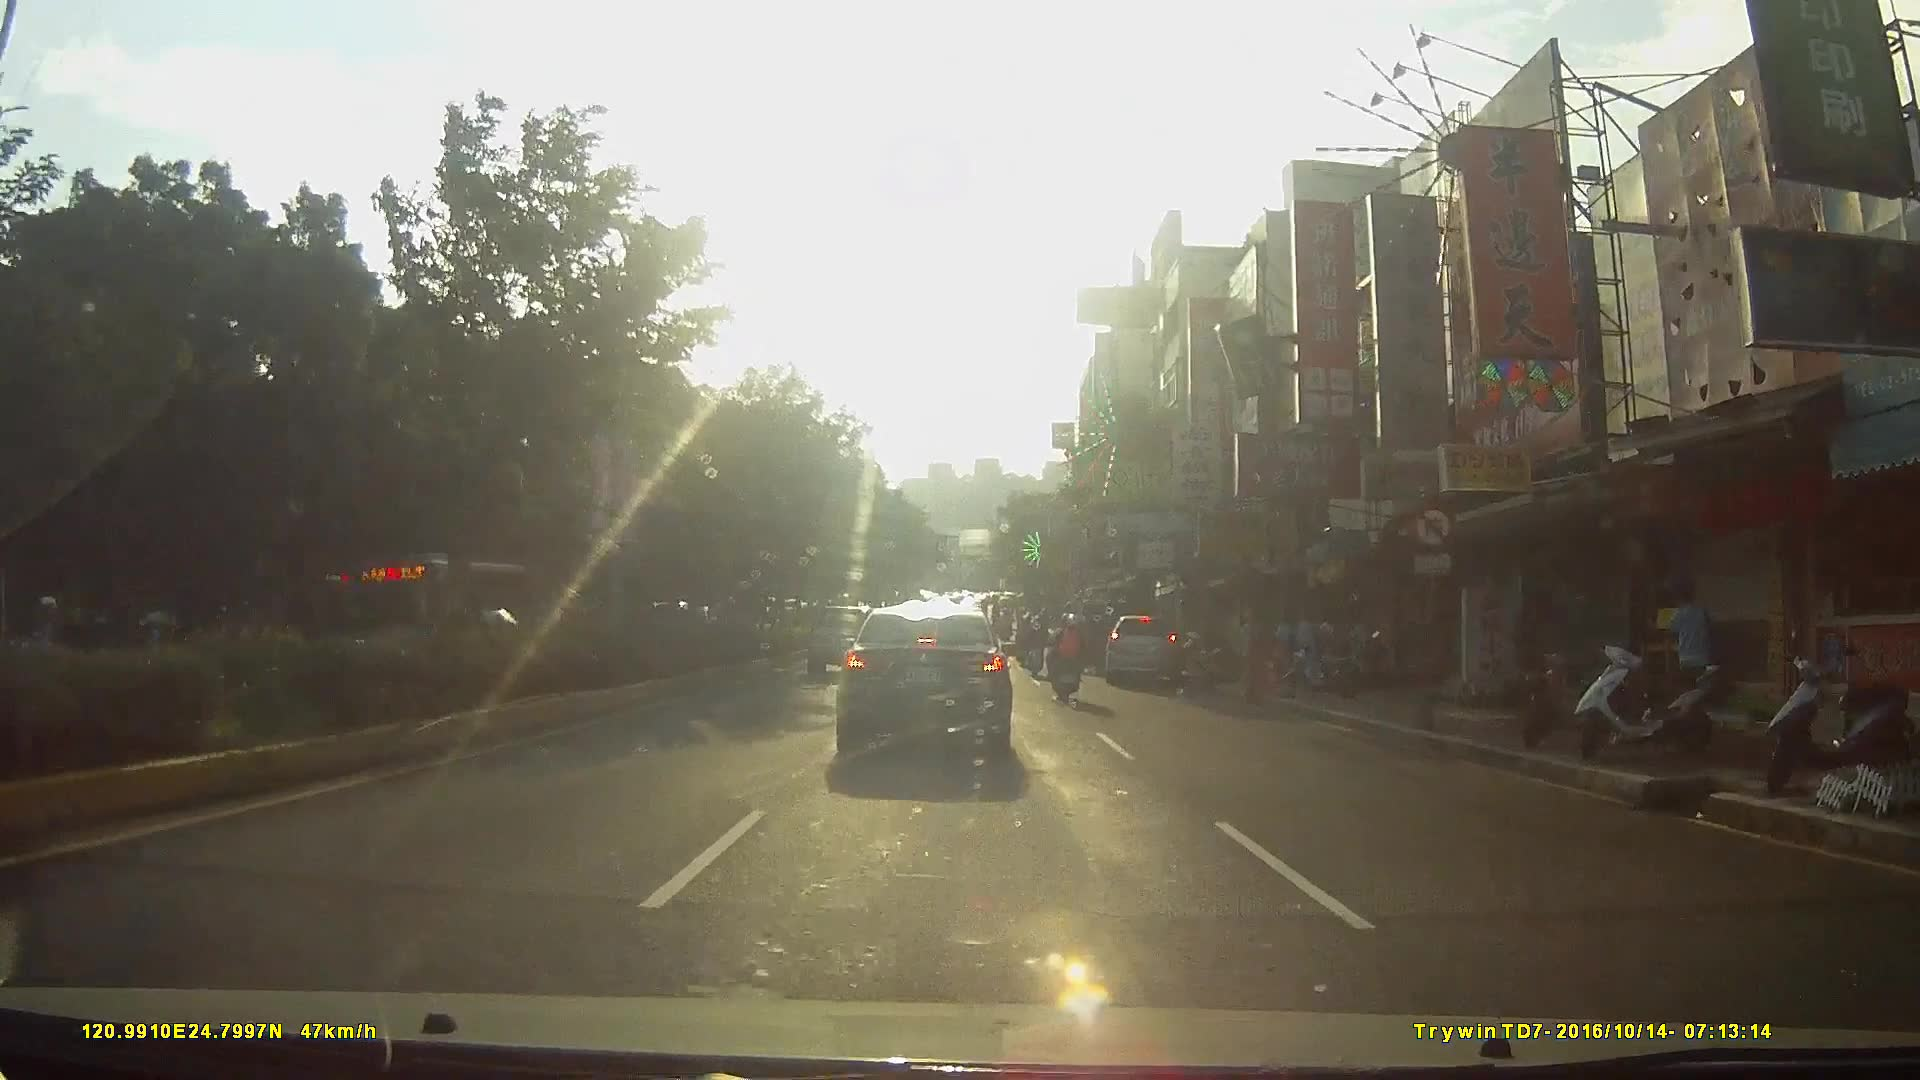pedestrian: (1659, 584, 1714, 718)
rider: (1051, 605, 1095, 703), (1018, 607, 1048, 676)
vehicle: (832, 589, 1032, 760), (341, 544, 546, 653), (1103, 605, 1192, 691)
